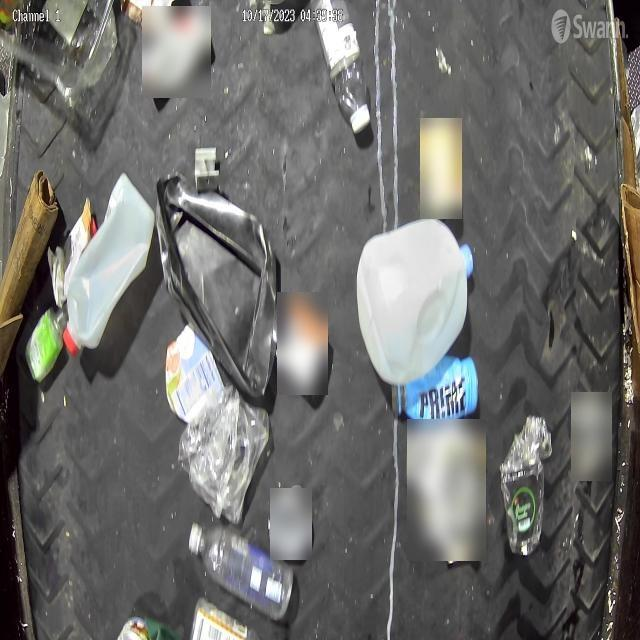milk_jug: (357, 215, 474, 384), (67, 172, 157, 354)
non_white_jug: (155, 172, 278, 400)
plastic_bottle: (187, 518, 295, 620), (314, 0, 370, 135)
